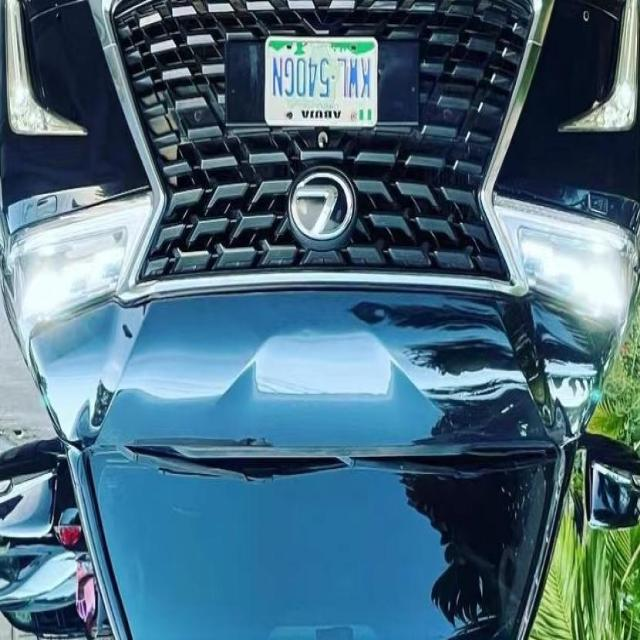Nigerian License Plate - vdataset benjamin-daria: (262, 29, 380, 133)
